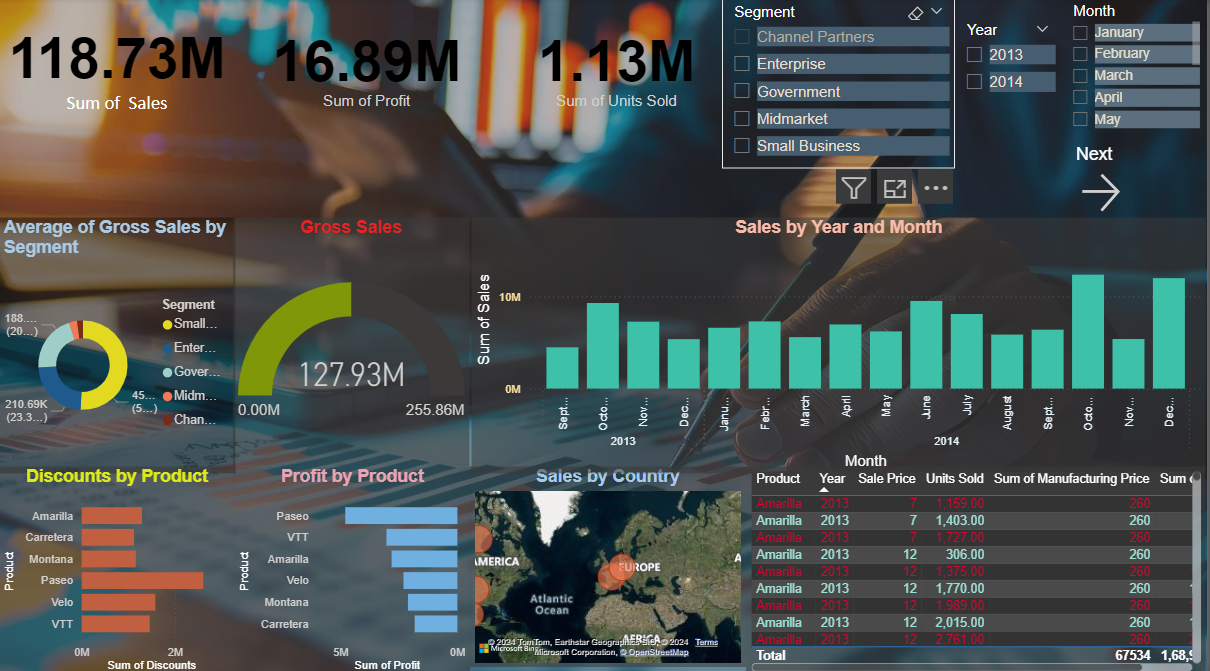

Layout of this report page (visuals, bound fields, positions):
{"tool":"powerbi","page":{"name":"Summary 1","canvas":[1280,720],"ordinal":0},"visuals":[{"type":"card","fields":{"Values":["Sum(Financial Sample. Sales)"]},"box":[0,0,249.5,143.6],"z":0},{"type":"card","fields":{"Values":["Sum(Financial Sample.Profit)"]},"box":[249.5,0,279.7,143.6],"z":1000},{"type":"card","fields":{"Values":["Sum(Financial Sample.Units Sold)"]},"box":[529.1,0,249.5,143.6],"z":2000},{"type":"map","title":" Sales by Country","fields":{"Category":["Financial Sample.Country"],"Size":["Sum(Financial Sample. Sales)"]},"box":[500,497.5,292.5,212.5],"z":3000},{"type":"clusteredBarChart","title":"Profit by Product","fields":{"Category":["Financial Sample.Product"],"Y":["Sum(Financial Sample.Profit)"]},"box":[250,497.5,250,222.5],"z":4000},{"type":"donutChart","fields":{"Category":["Financial Sample.Segment"],"Y":["Avg(Financial Sample.Gross Sales)"]},"box":[0,233.1,250.4,271.1],"z":5000},{"type":"tableEx","fields":{"Values":["Financial Sample.Product","Financial Sample.Year","Financial Sample.Sale Price","Financial Sample.Units Sold","Sum(Financial Sample.Manufacturing Price)","Sum(Financial Sample.Profit)"]},"box":[792.5,497.5,487.5,222.5],"z":6000},{"type":"clusteredColumnChart","title":"  Sales by Year and Month","fields":{"Category":["Financial Sample.Year","Financial Sample.Date.Variation.Date Hierarchy.Month"],"Y":["Sum(Financial Sample. Sales)"]},"box":[500.7,233.1,778.7,271.1],"z":7000},{"type":"clusteredBarChart","title":"Discounts by Product","fields":{"Category":["Financial Sample.Product"],"Y":["Sum(Financial Sample.Discounts)"]},"box":[0,497.5,250,222.5],"z":8000},{"type":"slicer","fields":{"Values":["Financial Sample.Date.Variation.Date Hierarchy.Year"]},"box":[1013.5,20.7,112.2,101.9],"z":9000},{"type":"slicer","fields":{"Values":["Financial Sample.Date.Variation.Date Hierarchy.Month"]},"box":[1126.6,0,152.1,144.4],"z":10000},{"type":"gauge","title":"Gross Sales","fields":{"Y":["Sum(Financial Sample.Gross Sales)"]},"box":[248.6,233.1,250.4,264.2],"z":11000},{"type":"slicer","fields":{"Values":["Financial Sample.Segment"]},"box":[766.7,1.6,246.5,179.7],"z":12000},{"type":"actionButton","title":"Next","box":[1142,156,138.7,77],"z":13000}]}

Visuals, with their boxes in screenshot pixels (x1, y1, x2, y2), scaled from the page's 1280x720 canvas onto the 1210x671 screenshot:
card - Sum(Financial Sample. Sales): <region>0, 0, 236, 134</region>
card - Sum(Financial Sample.Profit): <region>236, 0, 500, 134</region>
card - Sum(Financial Sample.Units Sold): <region>500, 0, 736, 134</region>
" Sales by Country" map: <region>473, 464, 749, 662</region>
"Profit by Product" clusteredBarChart: <region>236, 464, 473, 670</region>
donutChart - Financial Sample.Segment x Avg(Financial Sample.Gross Sales): <region>0, 217, 237, 470</region>
tableEx - Financial Sample.Product x Financial Sample.Year: <region>749, 464, 1209, 670</region>
"  Sales by Year and Month" clusteredColumnChart: <region>473, 217, 1209, 470</region>
"Discounts by Product" clusteredBarChart: <region>0, 464, 236, 670</region>
slicer - Financial Sample.Date.Variation.Date Hierarchy.Year: <region>958, 19, 1064, 114</region>
slicer - Financial Sample.Date.Variation.Date Hierarchy.Month: <region>1065, 0, 1209, 135</region>
"Gross Sales" gauge: <region>235, 217, 472, 463</region>
slicer - Financial Sample.Segment: <region>725, 1, 958, 169</region>
"Next" actionButton: <region>1080, 145, 1209, 217</region>
